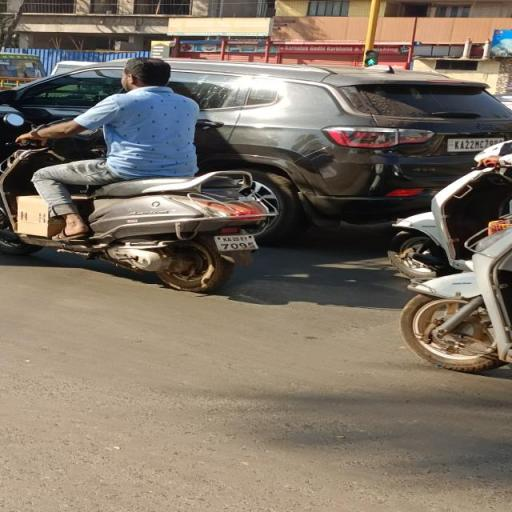bike: (1, 52, 281, 292)
numberplate: (210, 233, 260, 253)
withouthelmet: (122, 59, 172, 88)
